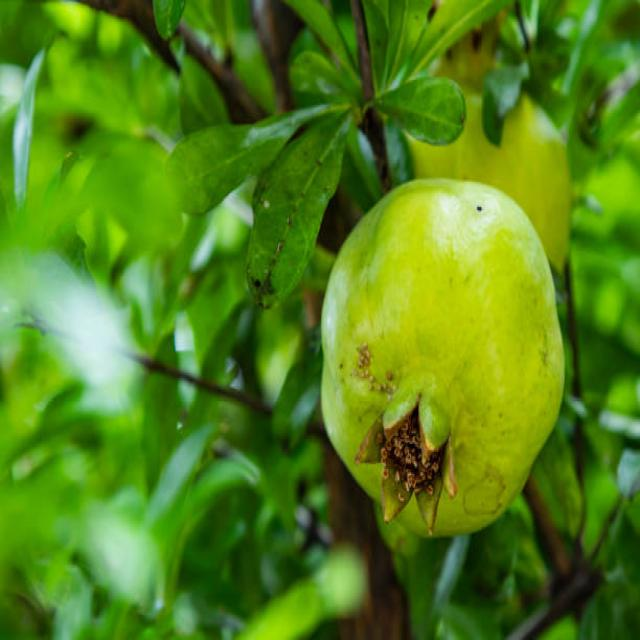Unripe: (321, 171, 566, 537)
